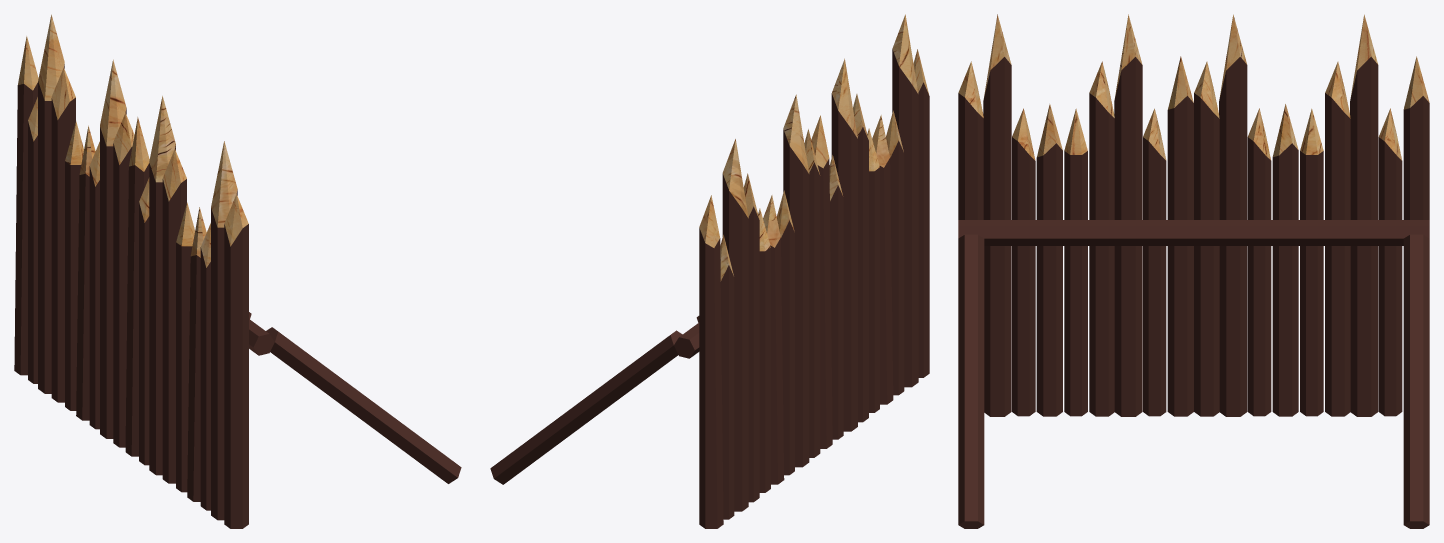
The model's file is Fences_01.fbx.
3 views of the same model, side by side, from view 1: azimuth 30°, elevation 25°; view 2: azimuth 150°, elevation 25°; view 3: azimuth 270°, elevation 25° (orthographic). The views are drawn at different scales.
Visible parts, largest first — view 1: Fences_01; view 2: Fences_01; view 3: Fences_01.
Part boxes in pixels (x1,y1,x2,y2): Fences_01: (14,14,461,528); Fences_01: (490,14,929,528); Fences_01: (958,14,1429,528).
Bounding box in the file's own units: 390 × 617 × 648.
